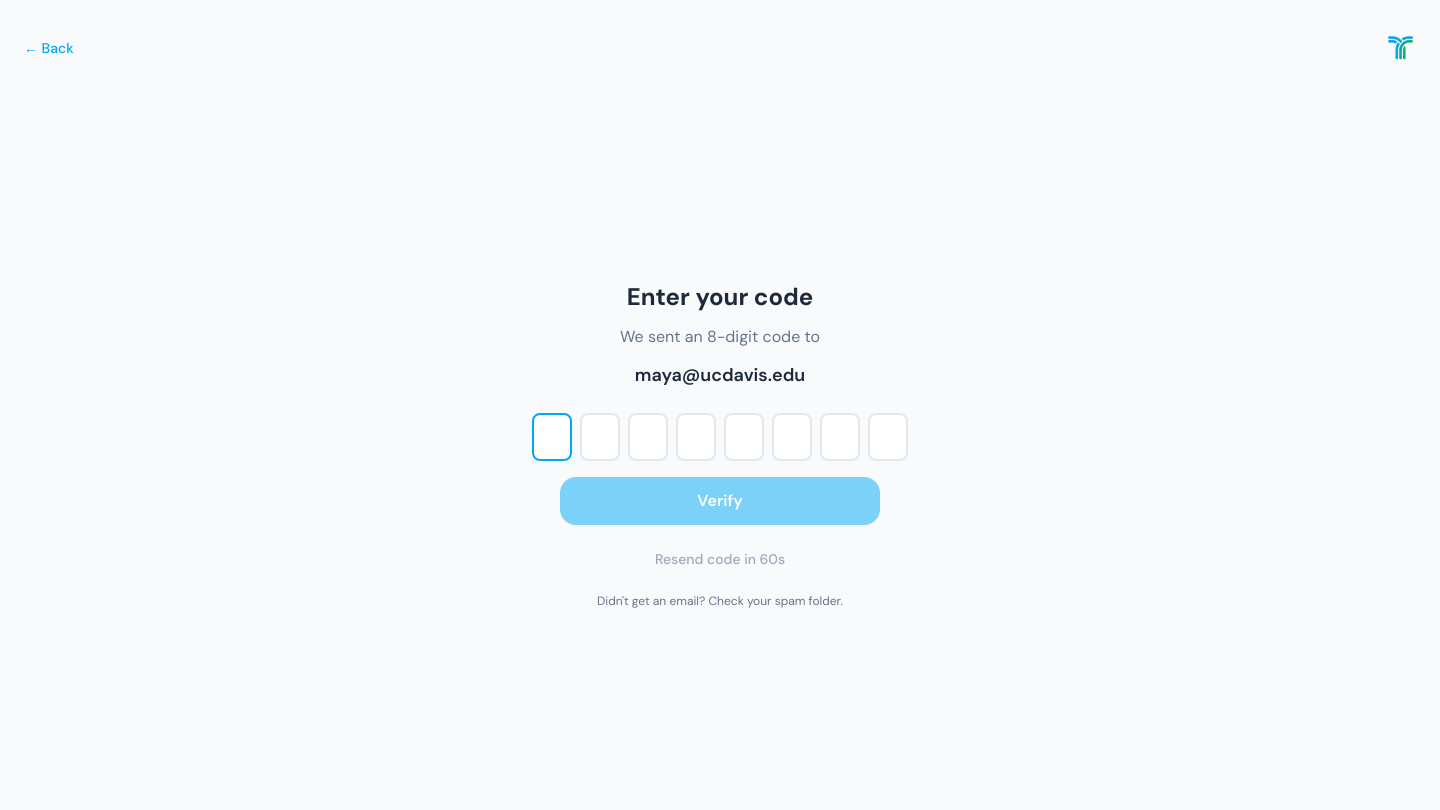
Test case: CheckInbox OTP screen › shows error on invalid OTP code
Type "9" into the field with test id "otp-input-0".
click(552, 437); type("9")  # box [532,413,572,461]
Type "9" into the field named "Digit 2".
click(600, 437); type("9")  # box [580,413,620,461]
Type "9" into the field named "Digit 3".
click(648, 437); type("9")  # box [628,413,668,461]
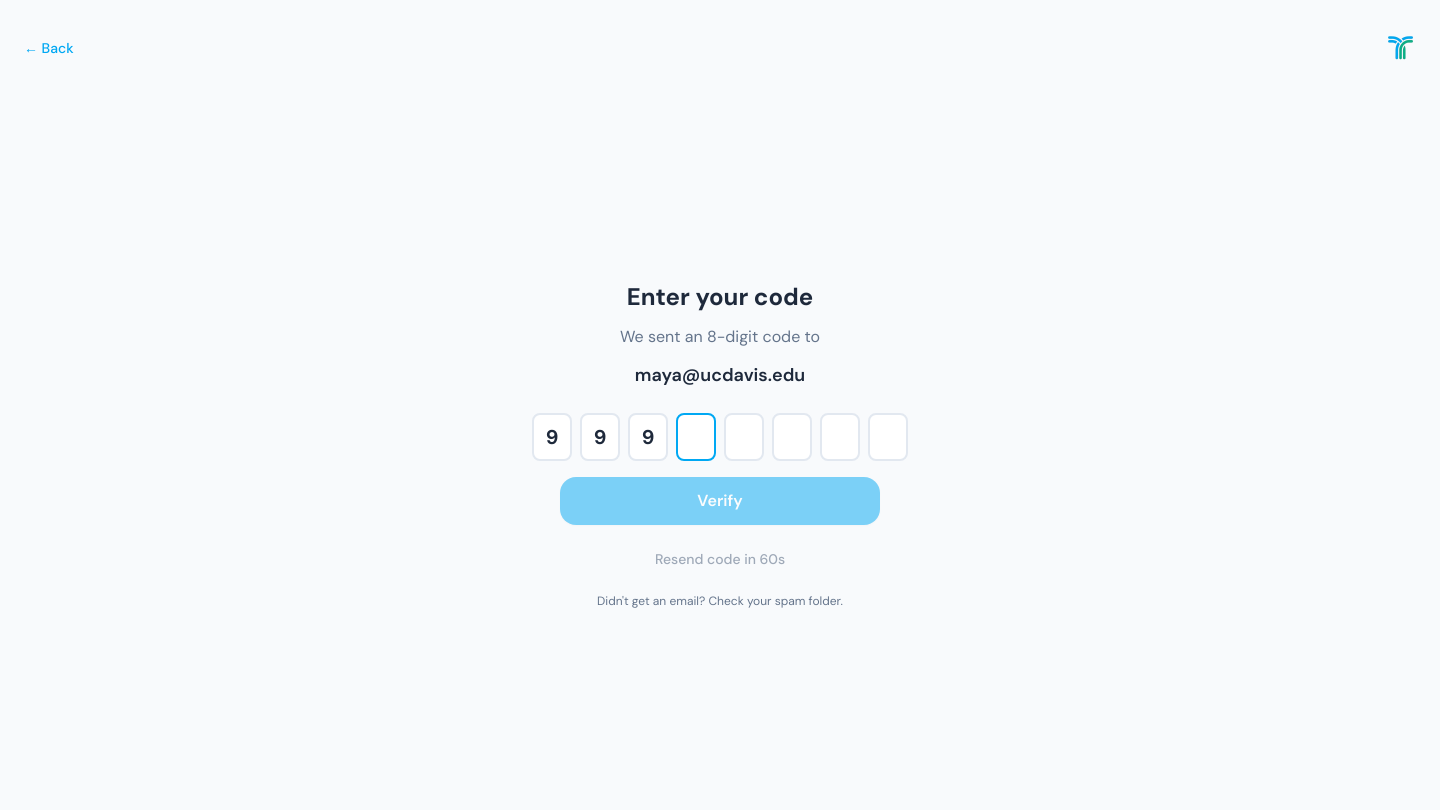
Type "9" into the field named "Digit 4".
click(696, 437); type("9")  # box [676,413,716,461]
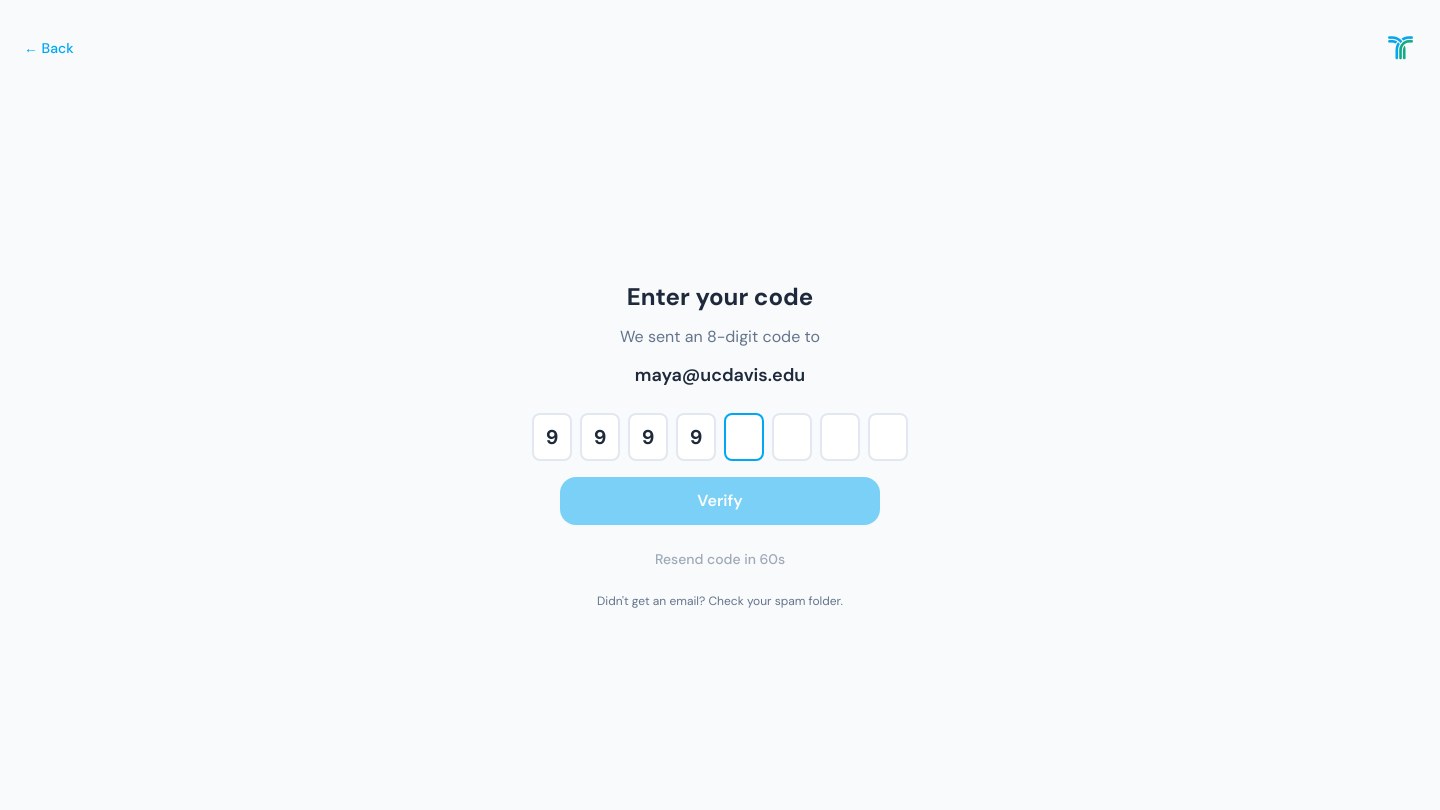
Type "9" into the field named "Digit 5".
click(744, 437); type("9")  # box [724,413,764,461]
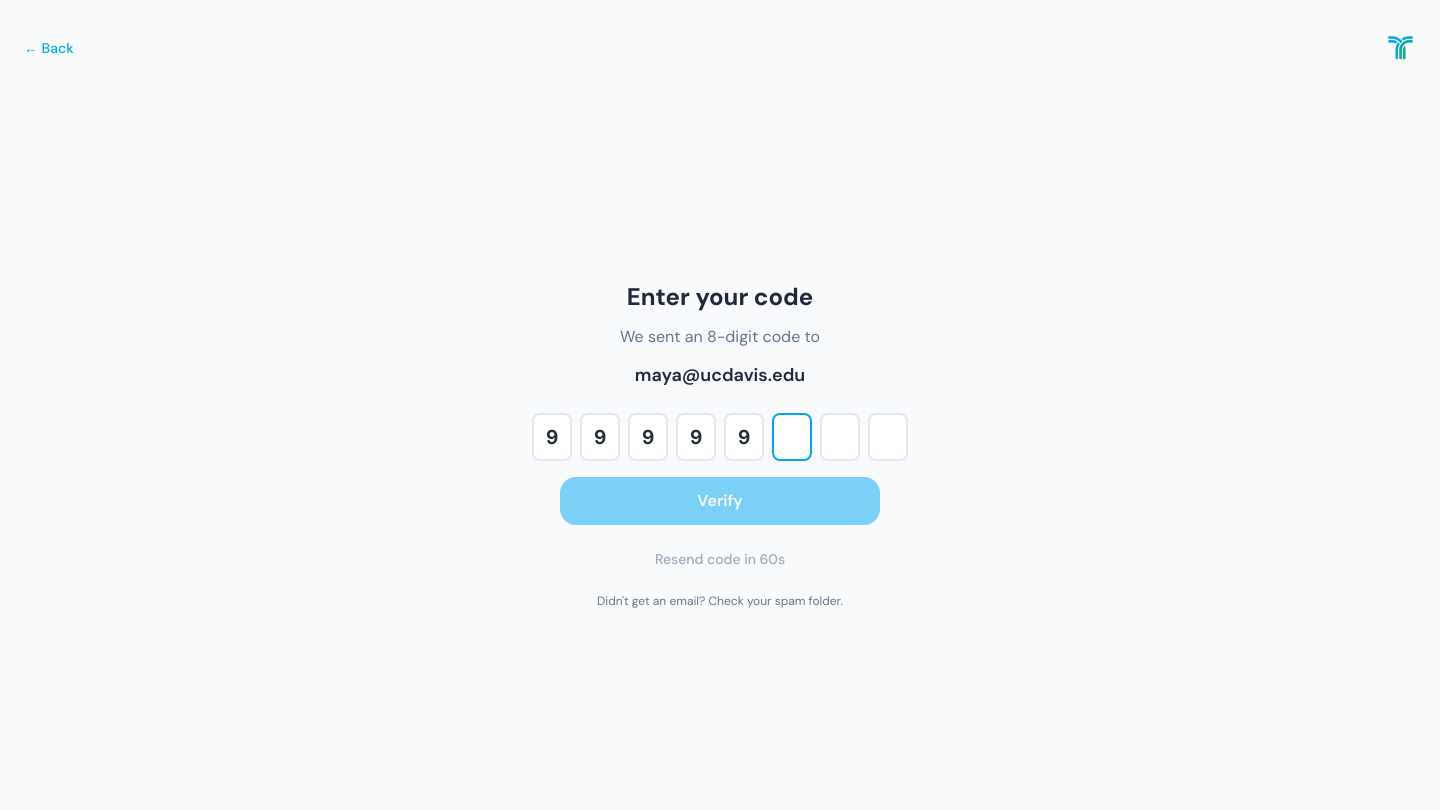
Type "9" into the field named "Digit 6".
click(792, 437); type("9")  # box [772,413,812,461]
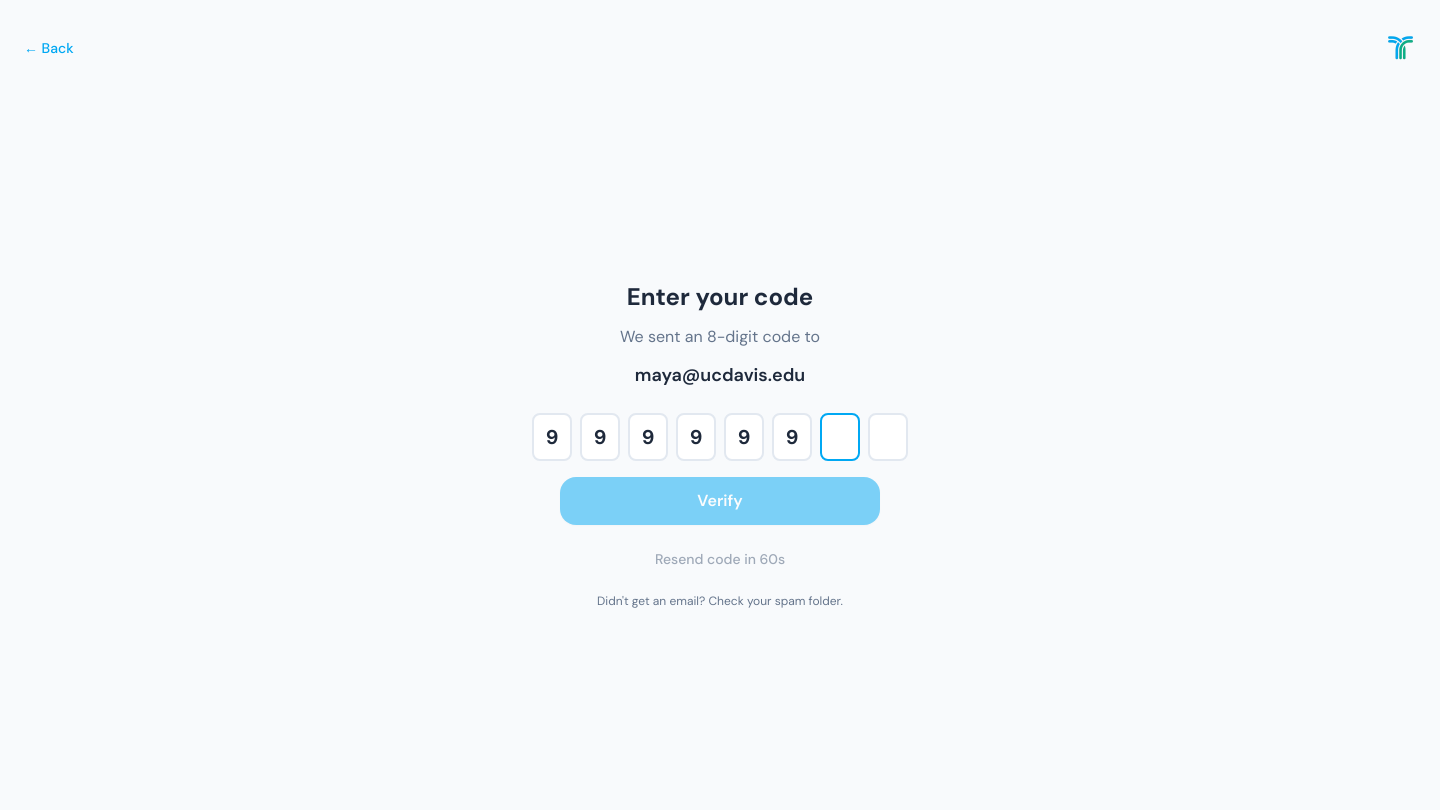
Type "9" into the field named "Digit 7".
click(840, 437); type("9")  # box [820,413,860,461]
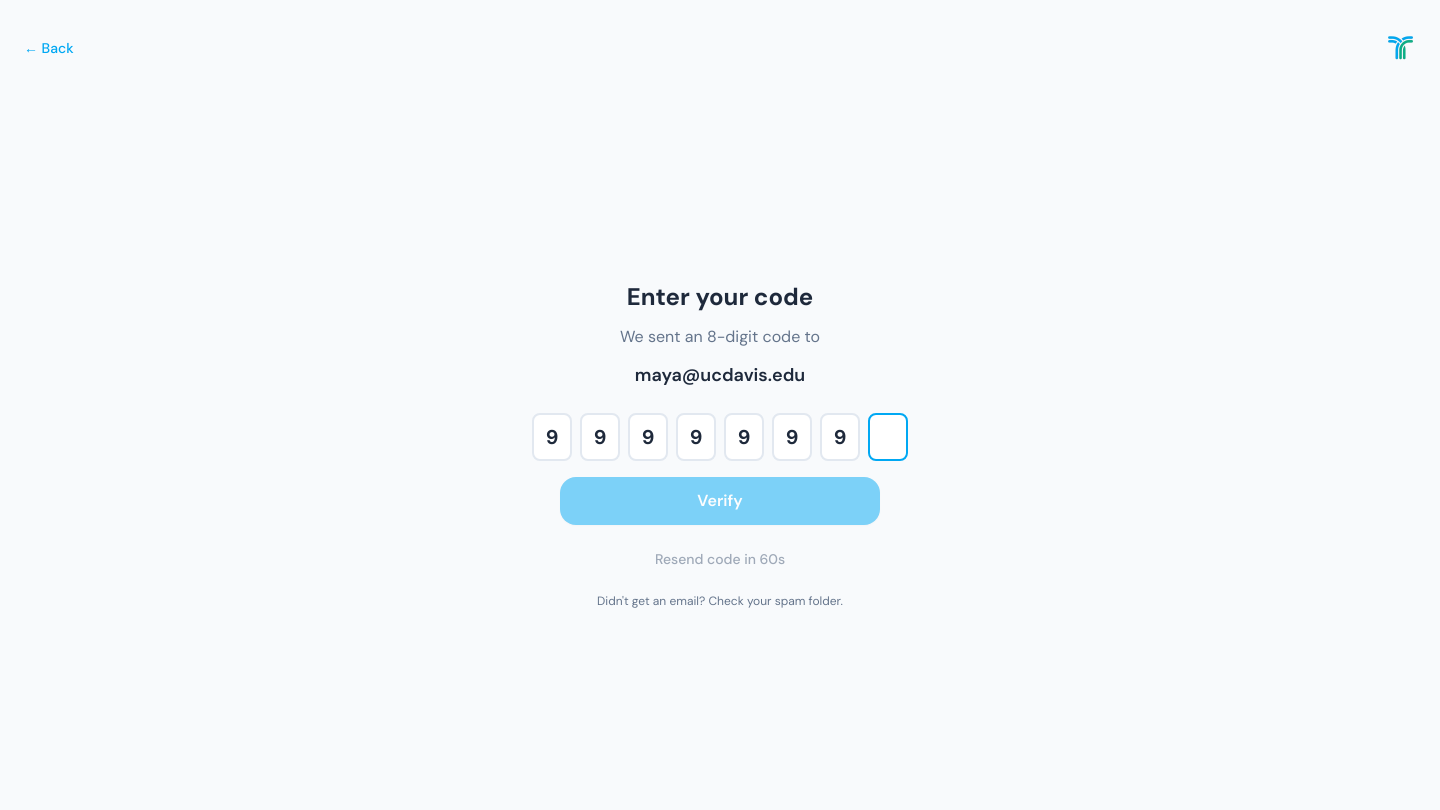
Type "9" into the field named "Digit 8".
click(888, 437); type("9")  # box [868,413,908,461]
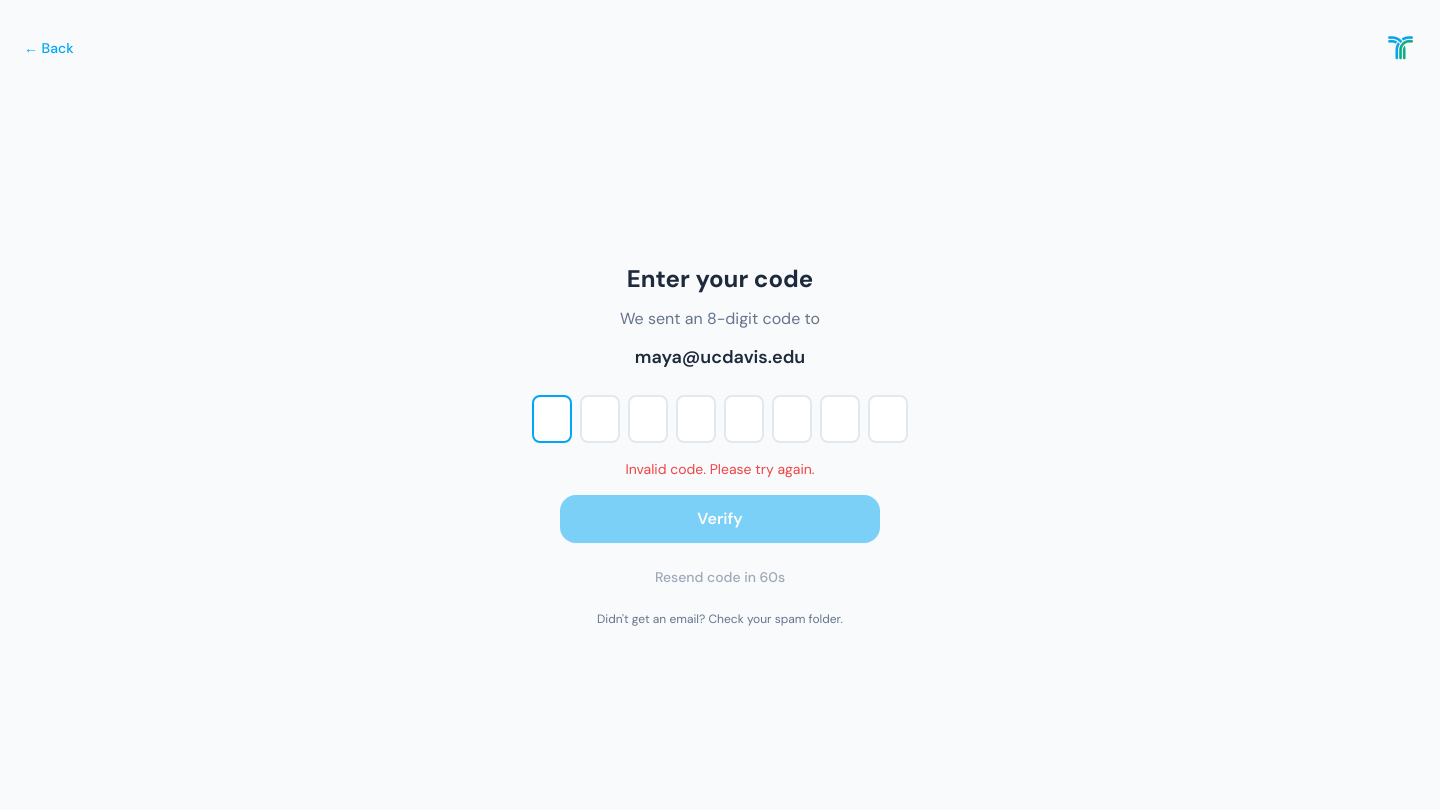
Check: the message "Invalid code. Please try again." is shown, box [625,459,815,479]
Check: the message with test id "verify-error" reads "Invalid code. Please try again.", box [625,460,815,478]
